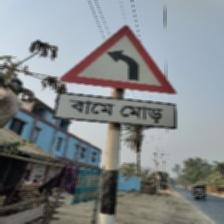Left-Turn: (56, 24, 179, 133)
